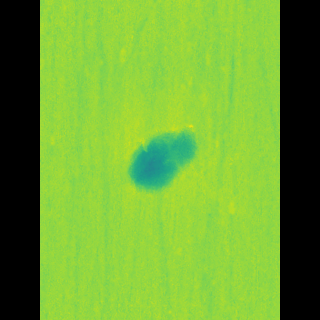Loch: (134, 122, 191, 196)
